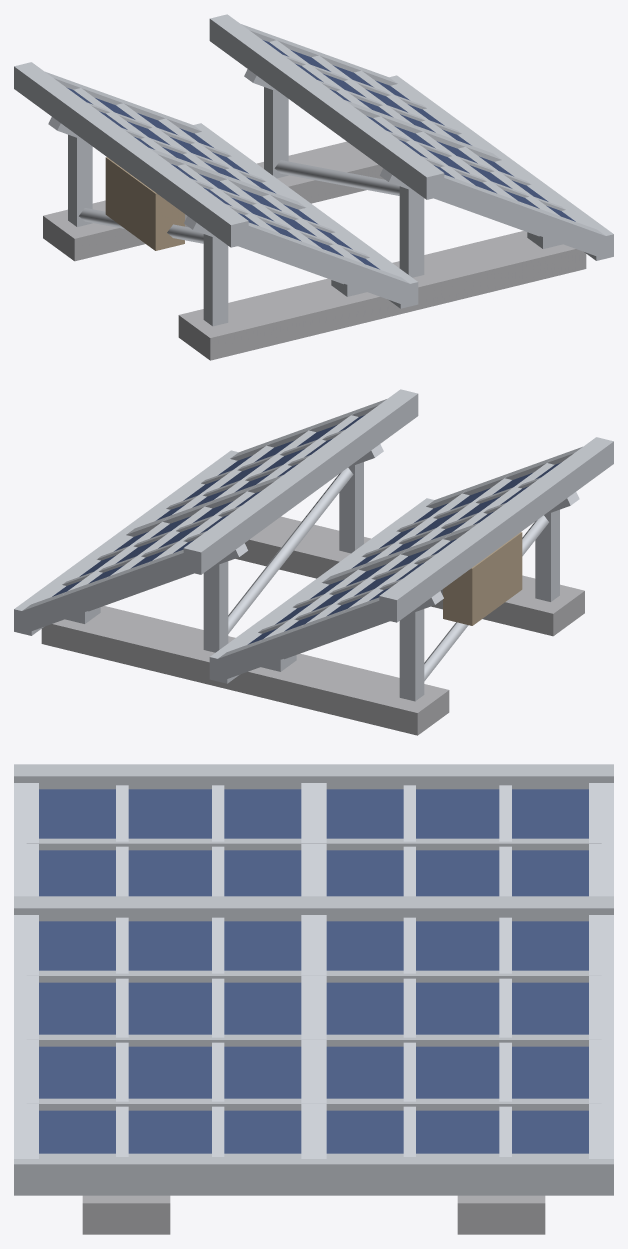
File: building.solarpanels.glb
3 renders of one model, top to bottom at view 1: azimuth 30°, elevation 25°; view 2: azimuth 150°, elevation 25°; view 3: azimuth 270°, elevation 25°, orthographic. The views are drawn at different scales.
Visible parts, largest first — view 1: Metal, Stone, Solar, PaintDark; view 2: Metal, Stone, Solar, PaintDark; view 3: Solar, Metal, Stone.
Boxes of the visible parts, x1,y1,x2,y2 form: Metal: [14, 14, 613, 326]; Stone: [43, 141, 586, 360]; Solar: [66, 40, 575, 269]; PaintDark: [105, 157, 184, 250]; Metal: [14, 389, 613, 701]; Stone: [41, 516, 584, 735]; Solar: [52, 415, 561, 644]; PaintDark: [443, 532, 522, 625]; Solar: [39, 789, 588, 1153]; Metal: [14, 764, 613, 1195]; Stone: [82, 1195, 545, 1234].
Size of the model in its own units: 0.983 by 0.3775 by 0.96.
